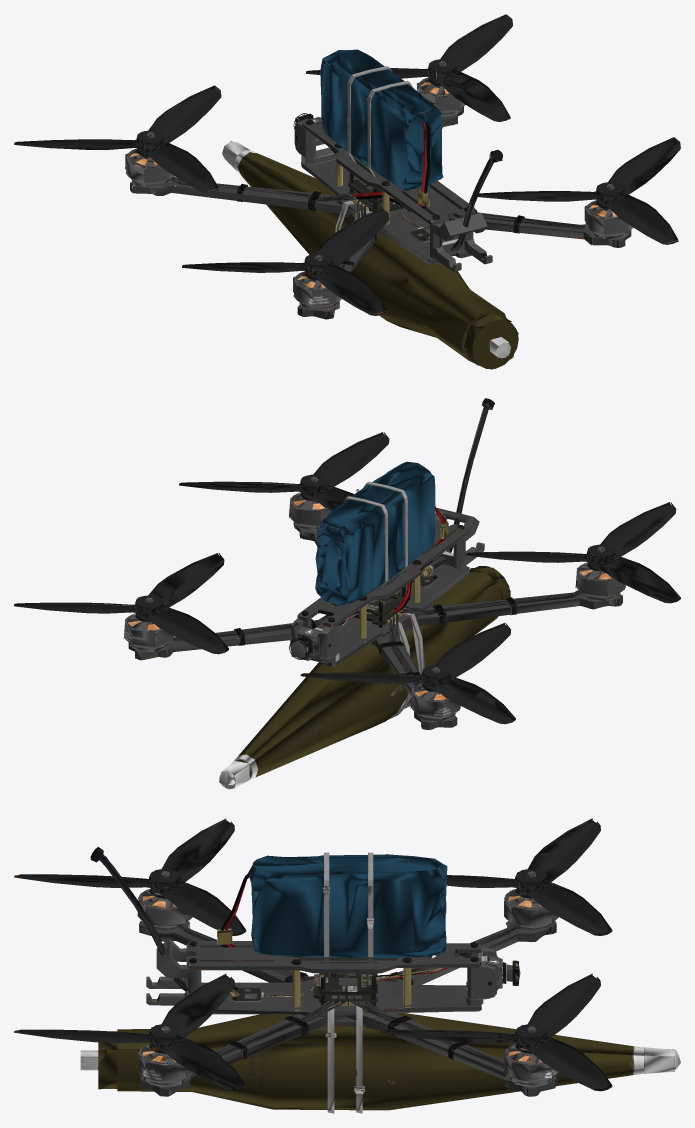
File: fpv_drone.glb
The picture shows the model from 3 angles, top to bottom: view 1: azimuth 30°, elevation 25°; view 2: azimuth 150°, elevation 25°; view 3: azimuth 270°, elevation 25°; orthographic projection. The views are drawn at different scales.
Visible parts, largest first — view 1: Frame, Prop3, Prop2, Prop0, Prop1; view 2: Frame, Prop1, Prop3, Prop2, Prop0; view 3: Frame, Prop0, Prop1, Prop2, Prop3.
Boxes of the visible parts, x1=… form: Frame: x1=125, y1=14, x2=680, y2=369; Prop3: x1=14, y1=85, x2=220, y2=192; Prop2: x1=182, y1=208, x2=388, y2=315; Prop0: x1=478, y1=137, x2=680, y2=244; Prop1: x1=306, y1=14, x2=512, y2=121; Frame: x1=14, y1=398, x2=680, y2=789; Prop1: x1=15, y1=553, x2=228, y2=654; Prop3: x1=301, y1=623, x2=515, y2=724; Prop2: x1=466, y1=502, x2=680, y2=603; Prop0: x1=179, y1=432, x2=389, y2=510; Frame: x1=14, y1=847, x2=680, y2=1113; Prop0: x1=15, y1=973, x2=245, y2=1091; Prop1: x1=382, y1=973, x2=611, y2=1091; Prop2: x1=16, y1=818, x2=245, y2=935; Prop3: x1=446, y1=818, x2=611, y2=935.
Bounding box in the file's own units: 0.309 × 0.1402 × 0.3251.
1 material, 1 textured.
